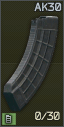AK 7.62x39 Palm US AK30 30-round magazine Black: (0, 0, 64, 127)
